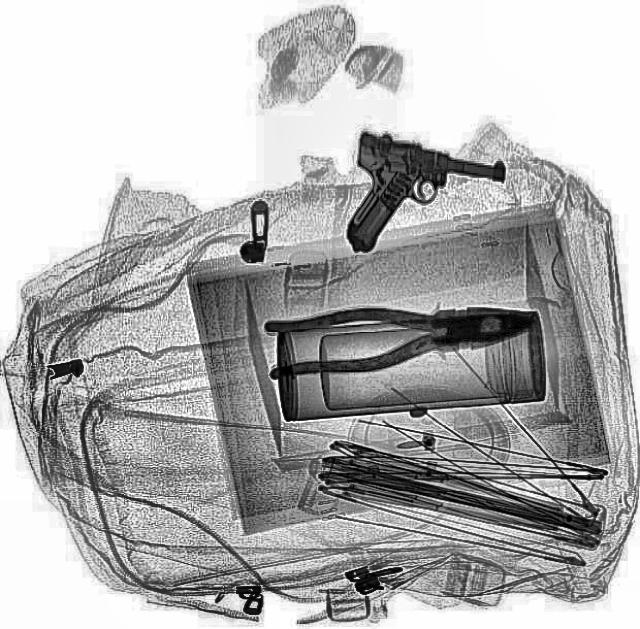Gun: (330, 126, 508, 276)
Pliers: (262, 288, 540, 382)
